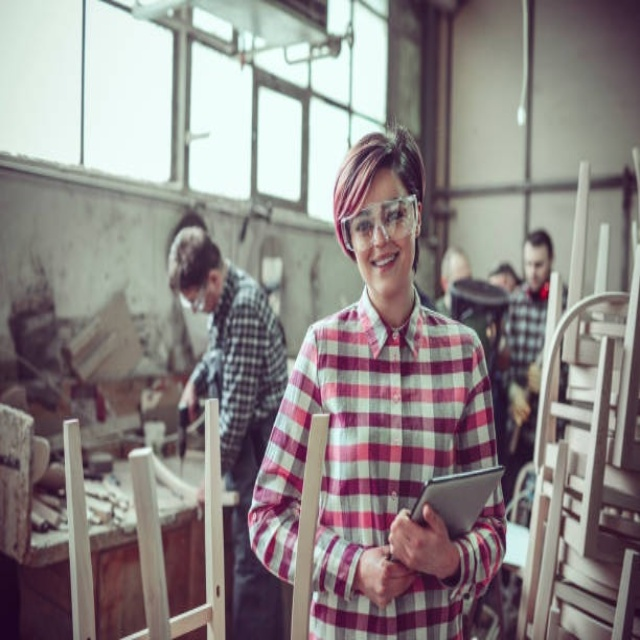Gafas: (344, 196, 419, 245)
Sin_guantes: (385, 497, 458, 580), (358, 544, 418, 604)
Sin_mascara: (366, 248, 403, 289)
